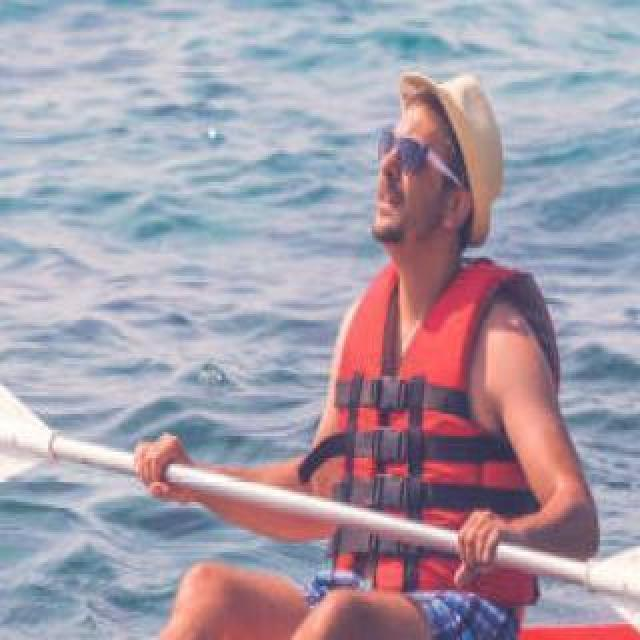kayak: (0, 384, 130, 480)
